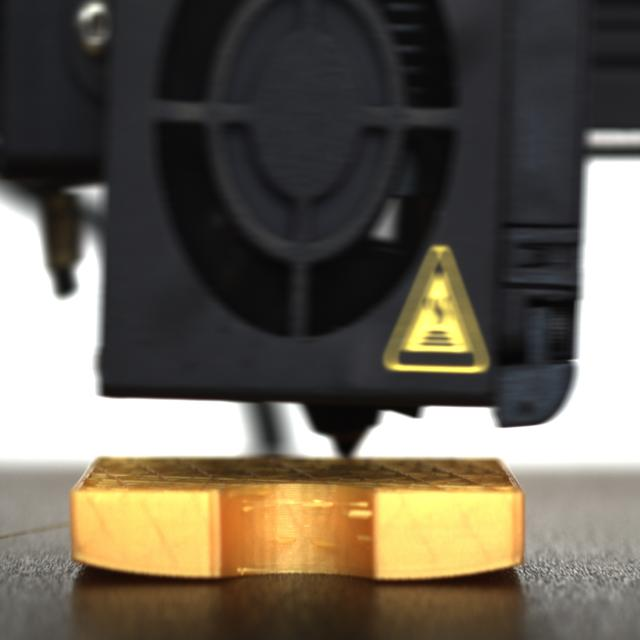Warping: (439, 551, 525, 585), (66, 548, 140, 584)
